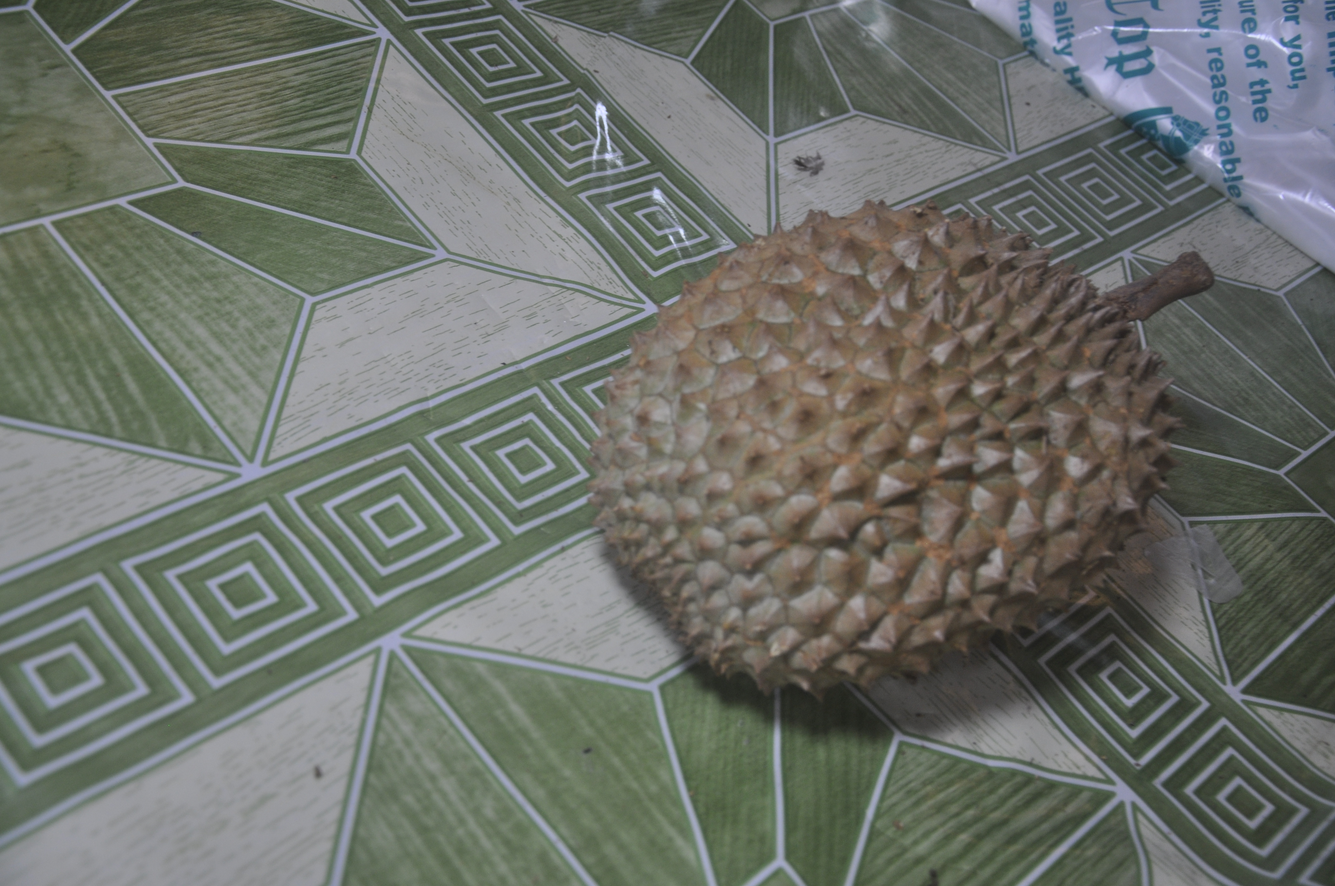mature: (590, 201, 1213, 697)
